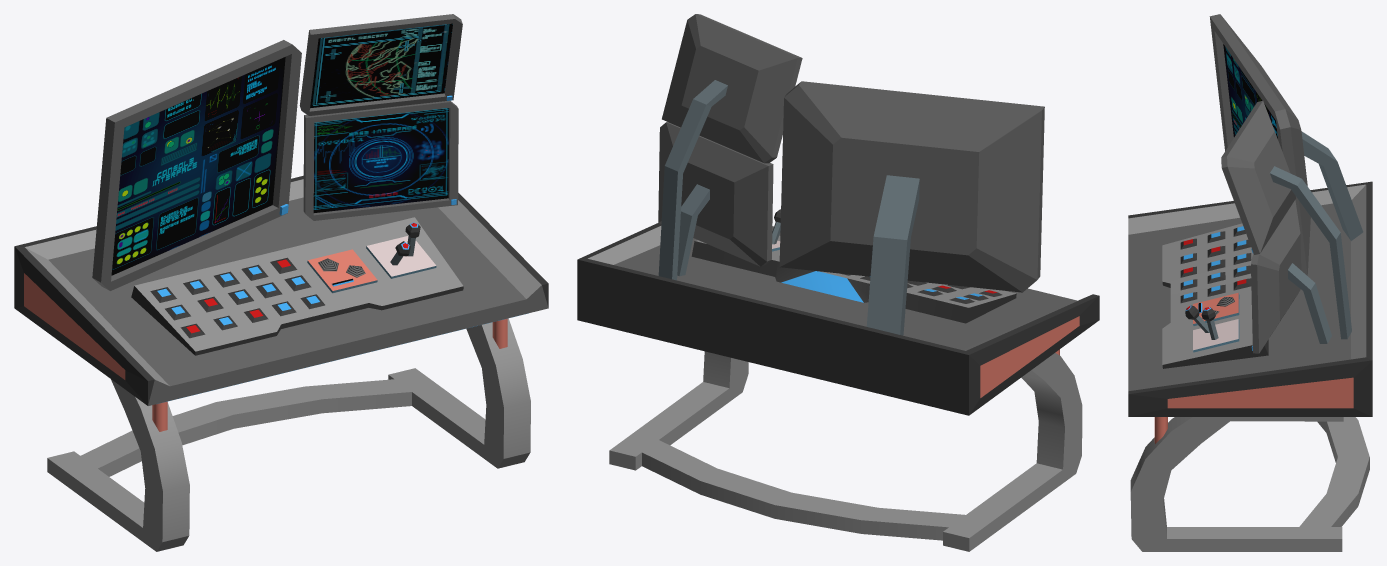
Rendered from Control_Table_SciFi.fbx.
3 views of the same model, side by side, from view 1: azimuth 30°, elevation 25°; view 2: azimuth 150°, elevation 25°; view 3: azimuth 270°, elevation 25° (orthographic). The views are drawn at different scales.
Parts seen in each view (by area): view 1: Control_Table_SciFi; view 2: Control_Table_SciFi; view 3: Control_Table_SciFi.
Part boxes in pixels (x1,y1,x2,y2): Control_Table_SciFi: (14,14,548,551); Control_Table_SciFi: (577,14,1099,551); Control_Table_SciFi: (1128,14,1372,551).
Size of the model in its own units: 202 by 201 by 116.
